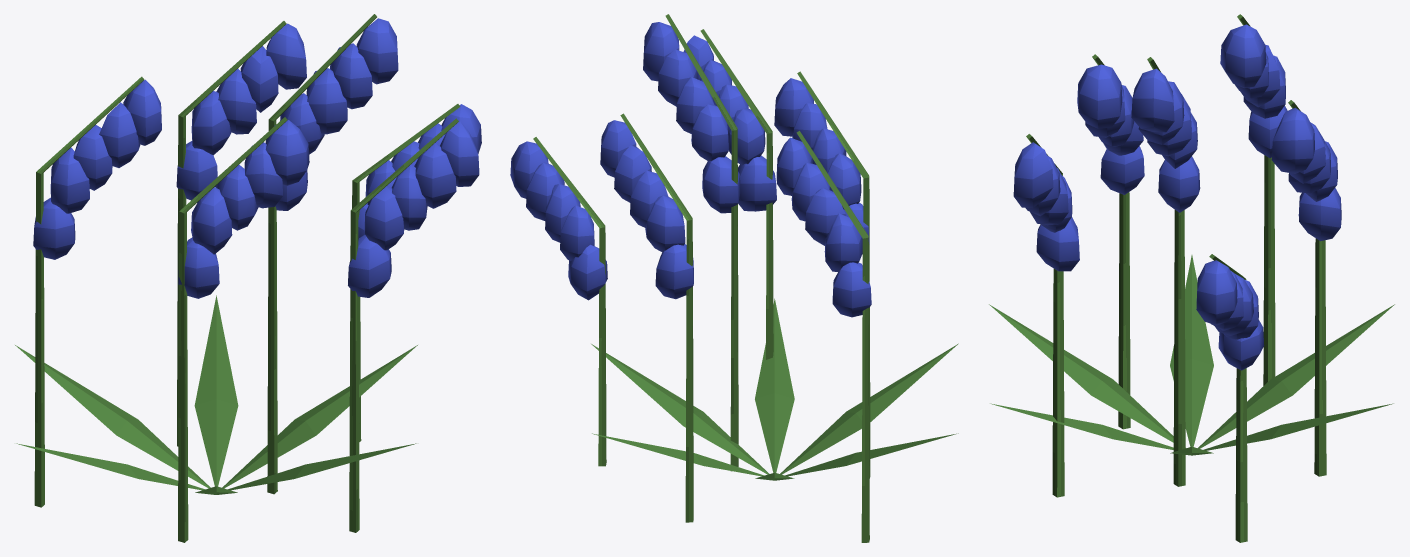
Rendered from f_bluebell.glb.
The picture shows the model from 3 angles, left to right: view 1: azimuth 30°, elevation 25°; view 2: azimuth 150°, elevation 25°; view 3: azimuth 270°, elevation 25°; orthographic projection. The views are drawn at different scales.
Visible parts, largest first — view 1: f_bluebell_mesh; view 2: f_bluebell_mesh; view 3: f_bluebell_mesh.
Part boxes in pixels (box(x1,y1,x2,y2)): f_bluebell_mesh: box(15, 14, 481, 542); f_bluebell_mesh: box(510, 14, 958, 542); f_bluebell_mesh: box(989, 14, 1394, 542).
Bounding box in the file's own units: 0.3793 × 0.3529 × 0.2771.
1 material, 1 textured.
